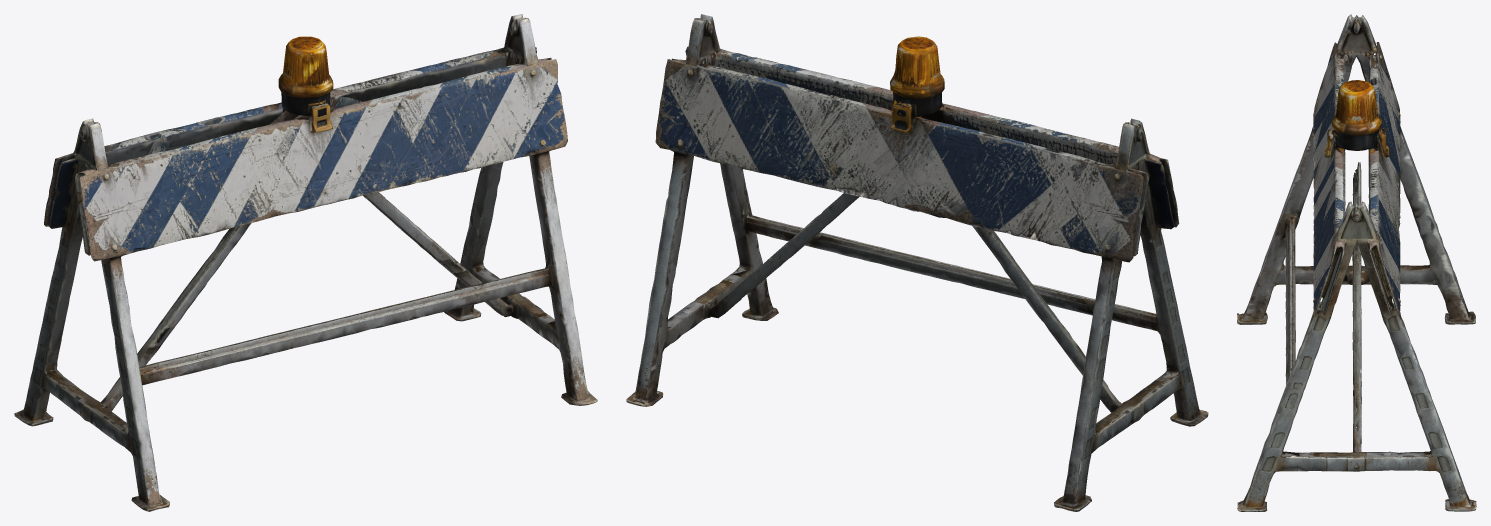
The model's file is PoliceBarricade.glb.
3 views of the same model, side by side, from view 1: azimuth 30°, elevation 25°; view 2: azimuth 150°, elevation 25°; view 3: azimuth 270°, elevation 25° (orthographic). The views are drawn at different scales.
Visible parts, largest first — view 1: texture_mapping; view 2: texture_mapping; view 3: texture_mapping.
Part boxes in pixels (x1=…): texture_mapping: x1=14, y1=14, x2=597, y2=511; texture_mapping: x1=626, y1=14, x2=1208, y2=511; texture_mapping: x1=1237, y1=14, x2=1476, y2=511.
Size of the model in its own units: 0.9928 by 0.7258 by 0.4817.
1 material, 1 textured.
